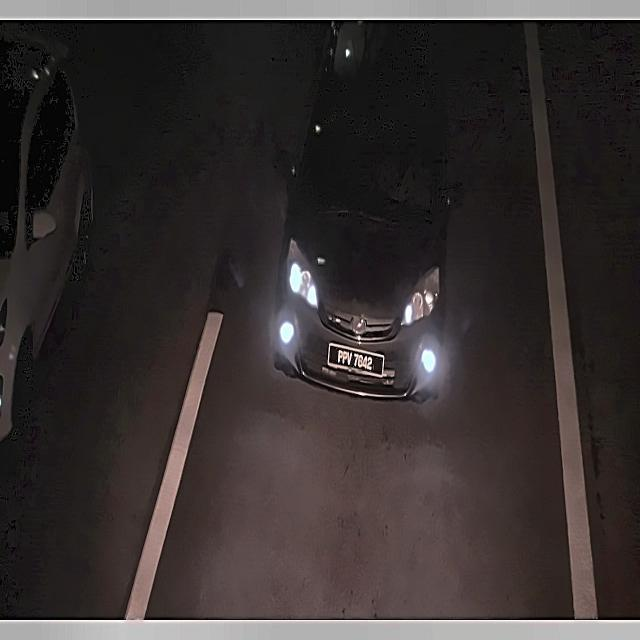car: (323, 332, 387, 385)
